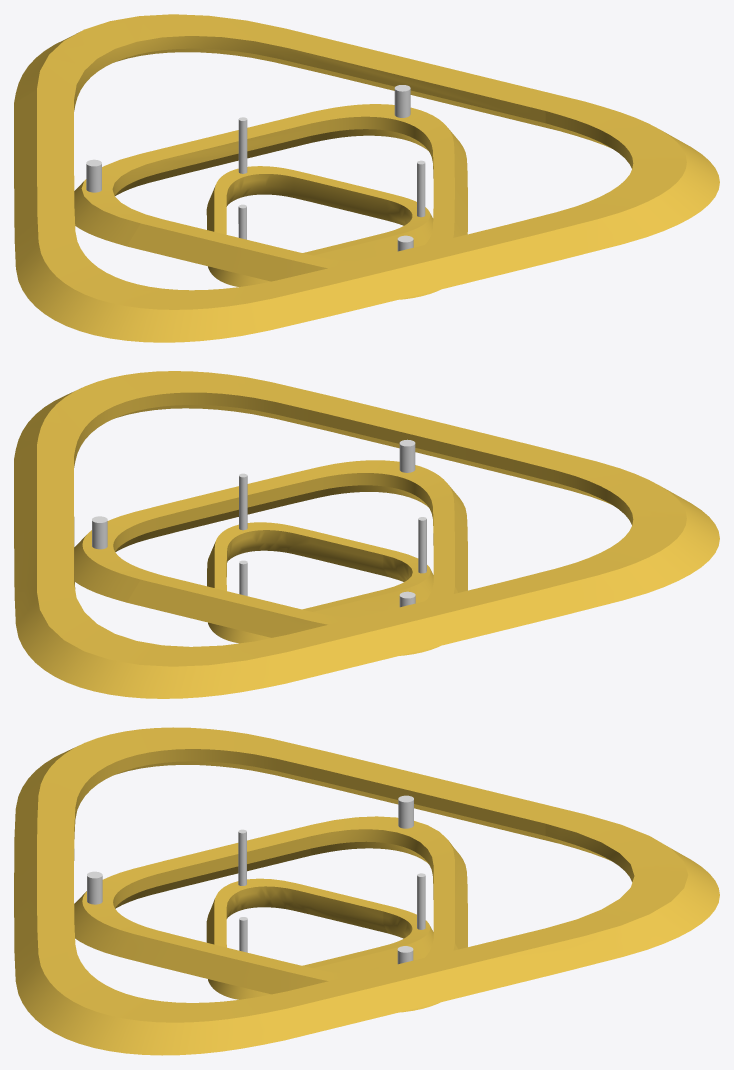
Rendered from ceiling_modern.glb.
3 views of the same model, one above another, from view 1: azimuth 30°, elevation 25°; view 2: azimuth 150°, elevation 25°; view 3: azimuth 270°, elevation 25° (orthographic).
Parts seen in each view (by area): view 1: Object_4, Object_6; view 2: Object_4, Object_6; view 3: Object_4, Object_6.
Part boxes in pixels (x1,y1,x2,y2): Object_4: (14, 14, 719, 342); Object_6: (86, 85, 425, 251); Object_4: (14, 371, 719, 698); Object_6: (92, 439, 426, 607); Object_4: (14, 727, 719, 1055); Object_6: (87, 795, 425, 964).
Bounding box in the file's own units: 1.48 × 0.1651 × 1.38.
